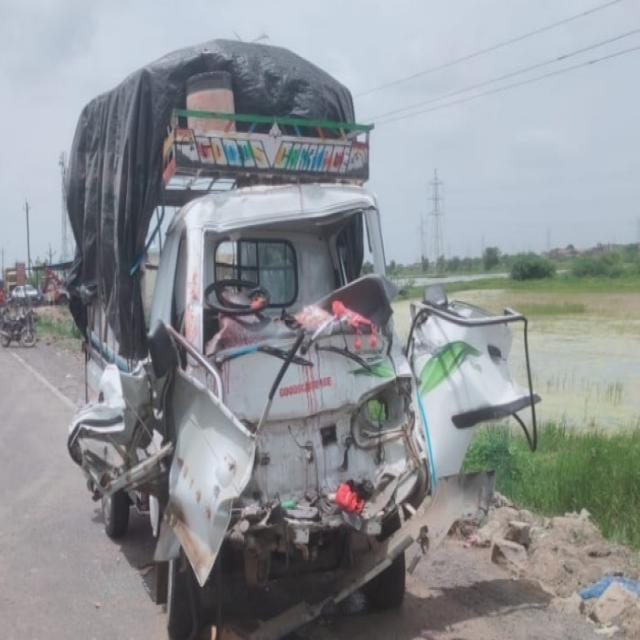accident: (68, 41, 538, 638)
